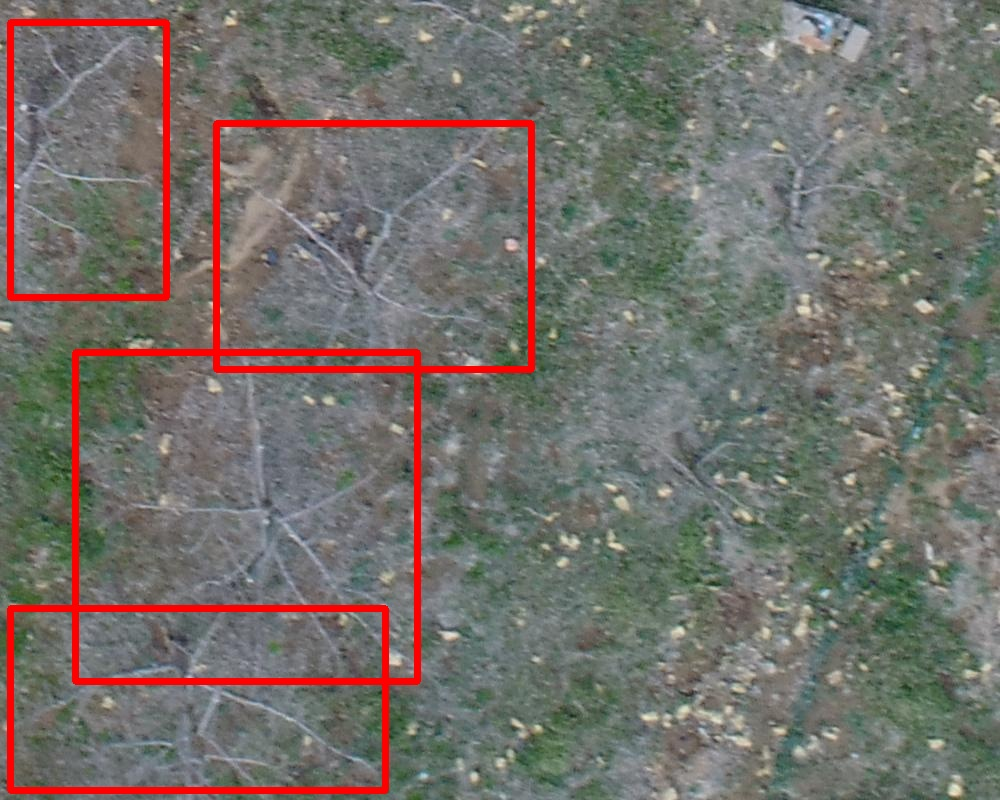apple: (75, 352, 417, 681), (216, 123, 531, 369), (10, 608, 385, 790), (10, 22, 166, 297)
